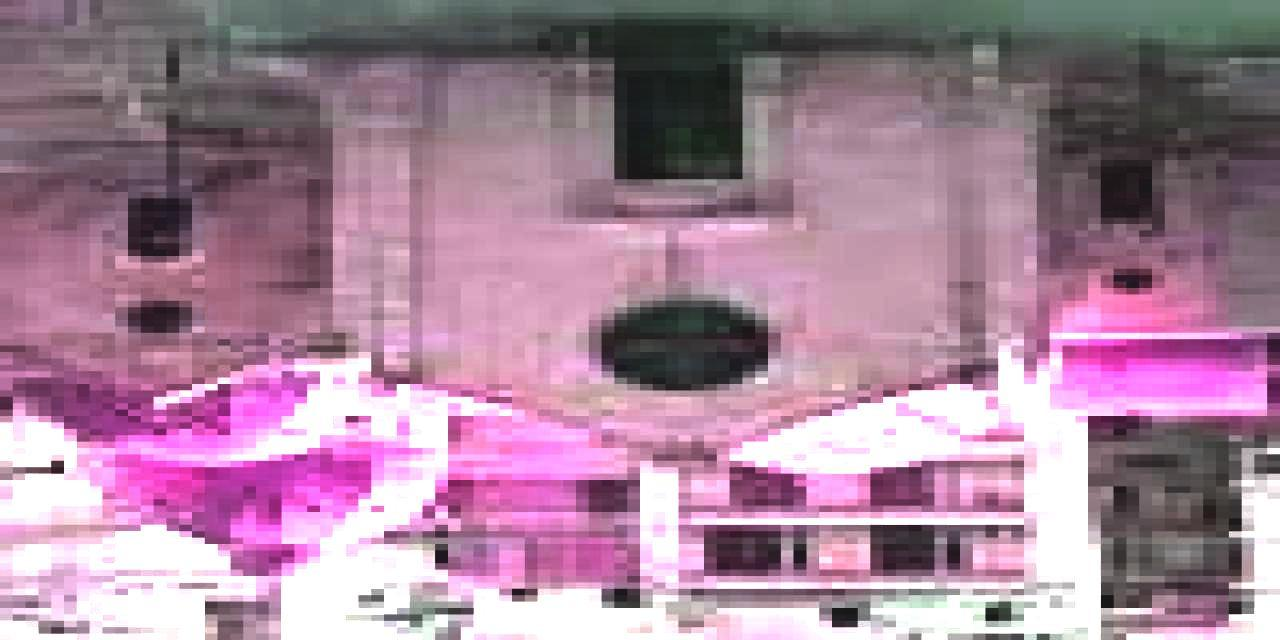Agia Aikaterini: (1, 28, 1280, 576)
